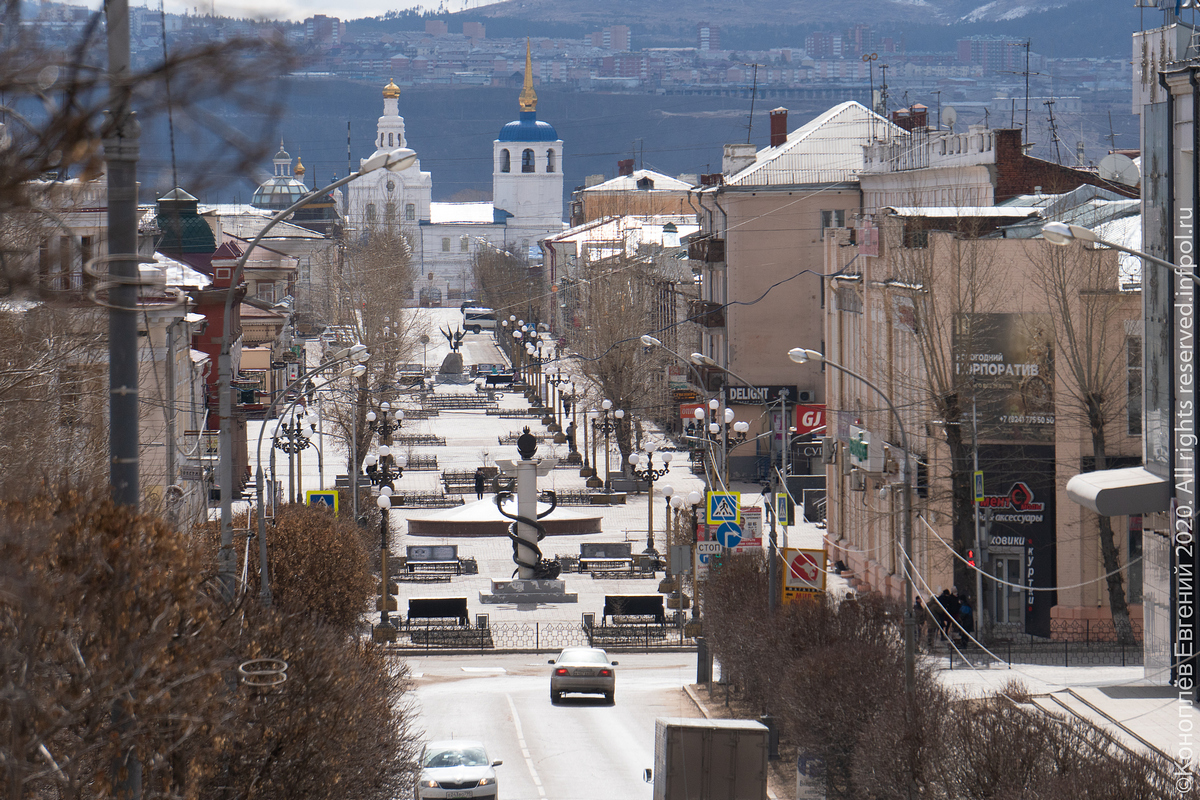sign: (705, 488, 743, 526), (305, 489, 340, 521), (774, 490, 794, 527), (716, 521, 742, 549), (971, 469, 988, 503)
